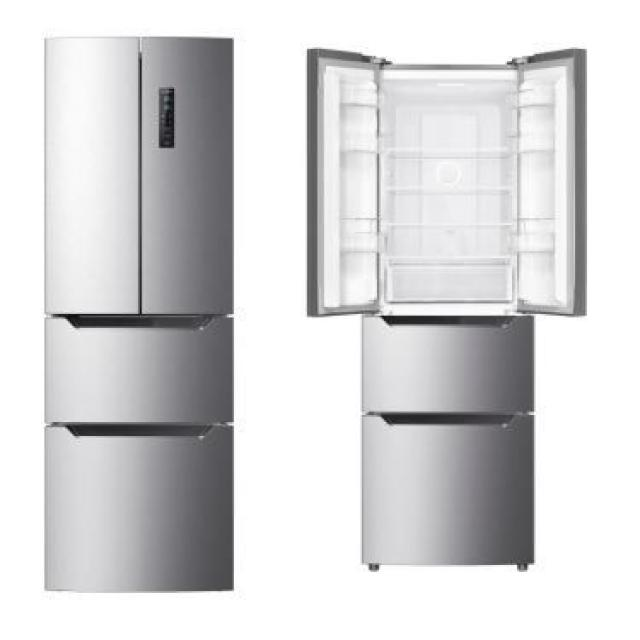obstacle: (306, 44, 585, 572), (41, 35, 234, 591)
